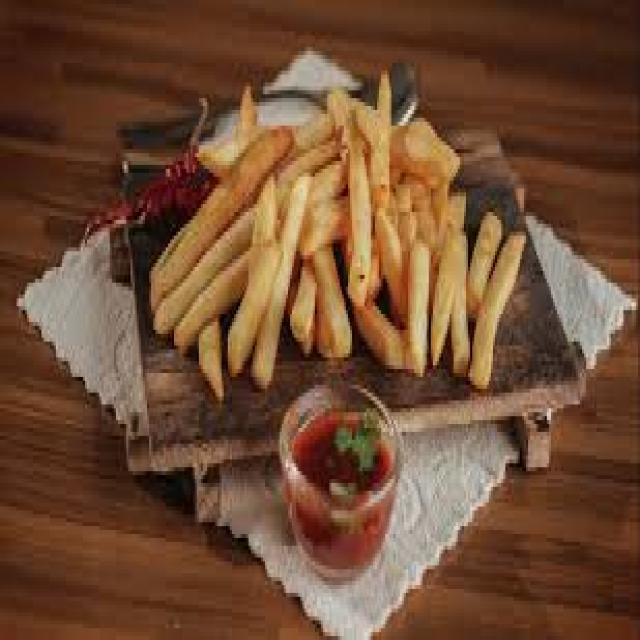Fries: (168, 139, 522, 381)
